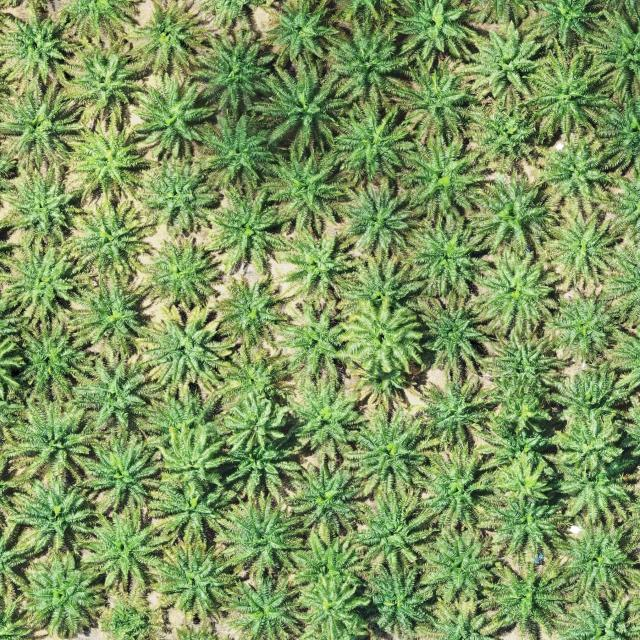Tree: (128, 301, 240, 404), (255, 62, 359, 155), (262, 142, 360, 238), (400, 134, 502, 226), (341, 411, 444, 502), (385, 54, 483, 147), (0, 236, 96, 329), (80, 508, 178, 597), (212, 492, 308, 580), (542, 206, 638, 294), (0, 82, 90, 175), (8, 473, 102, 562), (206, 184, 293, 279), (528, 50, 619, 140), (14, 550, 107, 638), (468, 172, 562, 259), (536, 133, 635, 215), (410, 444, 502, 532), (117, 0, 218, 80), (267, 296, 356, 386), (3, 392, 95, 479), (67, 119, 159, 206), (62, 38, 147, 129), (190, 28, 277, 116), (405, 372, 500, 452), (130, 77, 218, 163), (549, 517, 635, 604), (152, 538, 242, 621), (273, 223, 364, 305), (385, 0, 491, 70), (477, 249, 562, 336), (458, 98, 554, 174), (337, 180, 432, 256), (70, 197, 156, 280), (69, 352, 159, 430), (138, 153, 222, 236), (82, 434, 168, 514), (355, 490, 438, 572), (328, 25, 413, 105), (466, 27, 552, 106), (0, 162, 82, 244), (215, 272, 295, 356), (283, 456, 365, 537), (0, 7, 83, 87), (341, 297, 424, 376), (422, 292, 500, 376), (146, 477, 235, 550), (482, 494, 570, 567), (404, 222, 483, 302), (193, 110, 274, 188), (148, 419, 233, 493), (362, 560, 442, 638), (340, 103, 418, 183), (417, 528, 496, 606), (20, 322, 97, 402), (516, 0, 622, 58), (490, 558, 574, 630), (554, 289, 634, 364), (288, 378, 359, 461), (82, 272, 151, 356), (262, 0, 346, 69), (217, 442, 306, 506), (140, 240, 222, 309), (229, 571, 309, 640), (479, 328, 560, 392), (550, 410, 626, 477), (340, 247, 427, 304), (558, 467, 636, 529), (290, 529, 366, 587), (304, 575, 371, 640), (220, 348, 296, 404), (223, 395, 290, 455), (549, 364, 628, 414), (134, 394, 224, 437), (490, 392, 560, 444), (479, 429, 551, 469), (498, 458, 553, 508), (332, 0, 388, 23)
